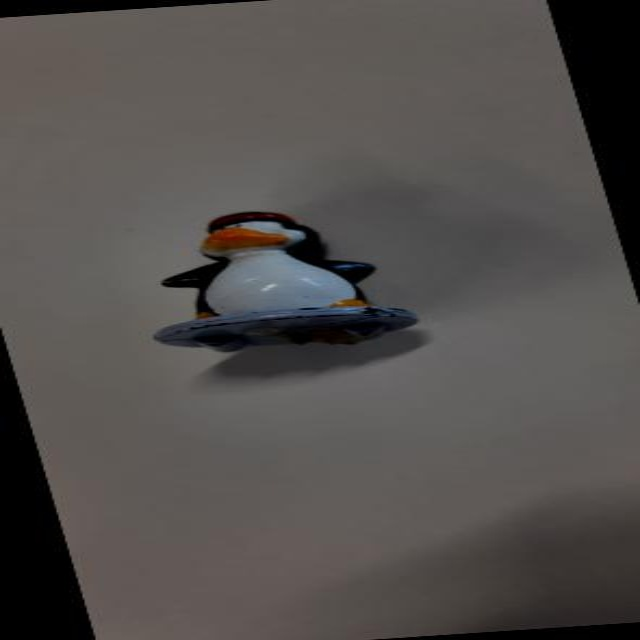Penguin: (126, 200, 412, 356)
